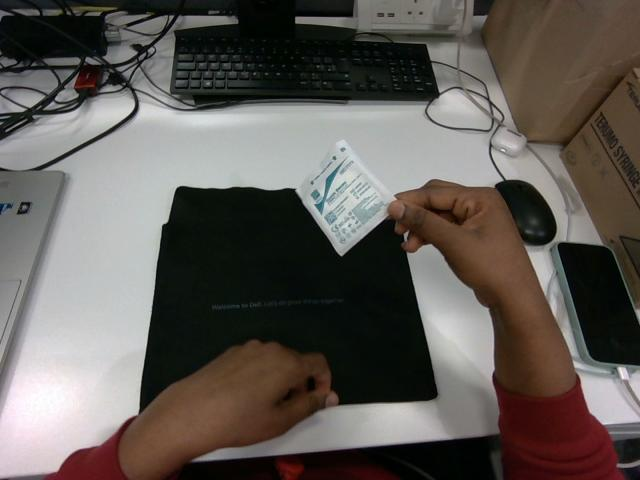gauze: (296, 140, 394, 255)
